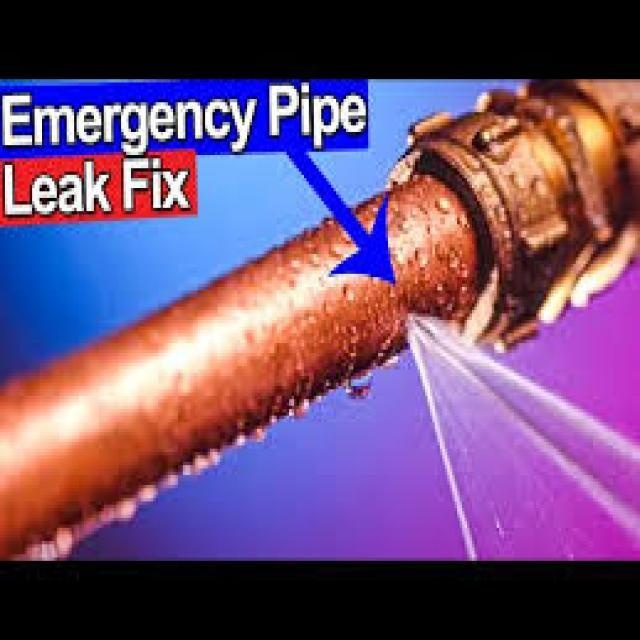corrosion: (360, 272, 510, 405)
